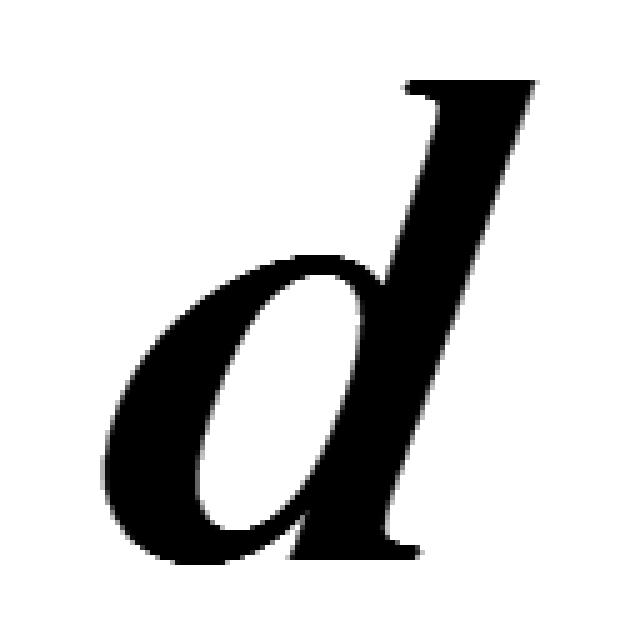D: (95, 70, 540, 570)
